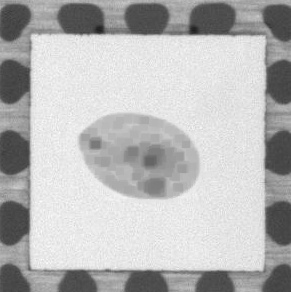DIE_INK: (69, 105, 208, 210)
